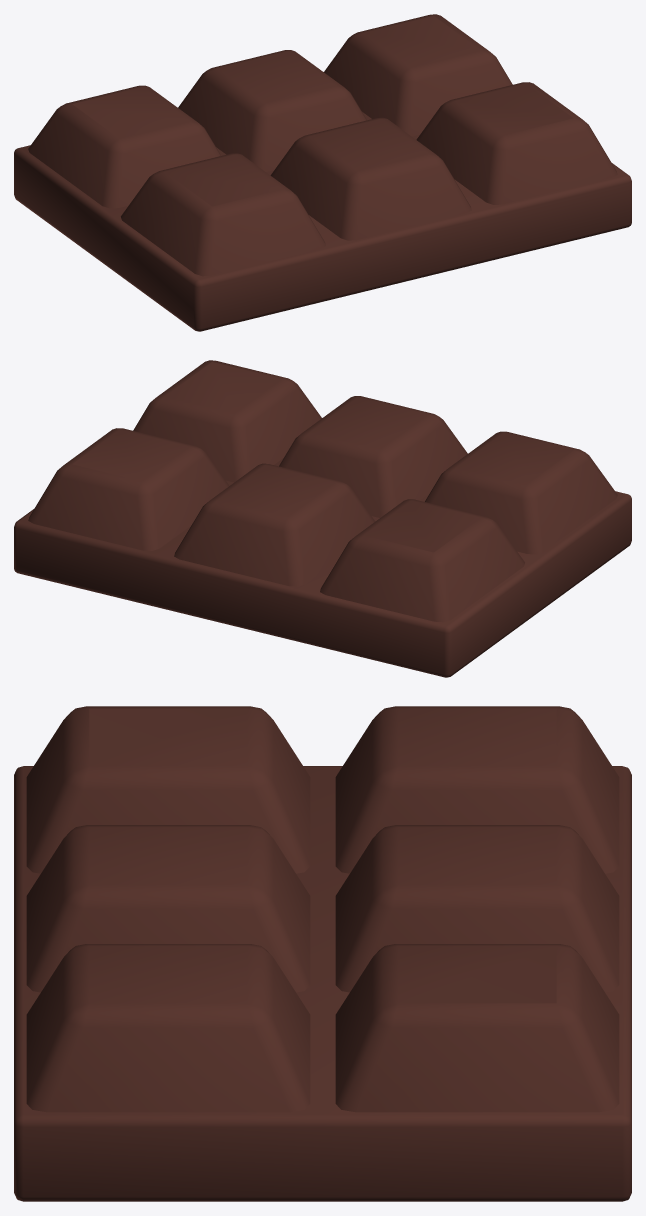
The model's file is choco_icon_1.fbx.
3 renders of one model, top to bottom at view 1: azimuth 30°, elevation 25°; view 2: azimuth 150°, elevation 25°; view 3: azimuth 270°, elevation 25°, orthographic. The views are drawn at different scales.
Visible parts, largest first — view 1: chocolate_1_1; view 2: chocolate_1_1; view 3: chocolate_1_1.
Part boxes in pixels (box(x1,y1,x2,y2)): chocolate_1_1: box(14, 14, 631, 331); chocolate_1_1: box(14, 360, 631, 677); chocolate_1_1: box(14, 706, 631, 1201).
Size of the model in its own units: 71.29 by 15.96 by 52.26.
